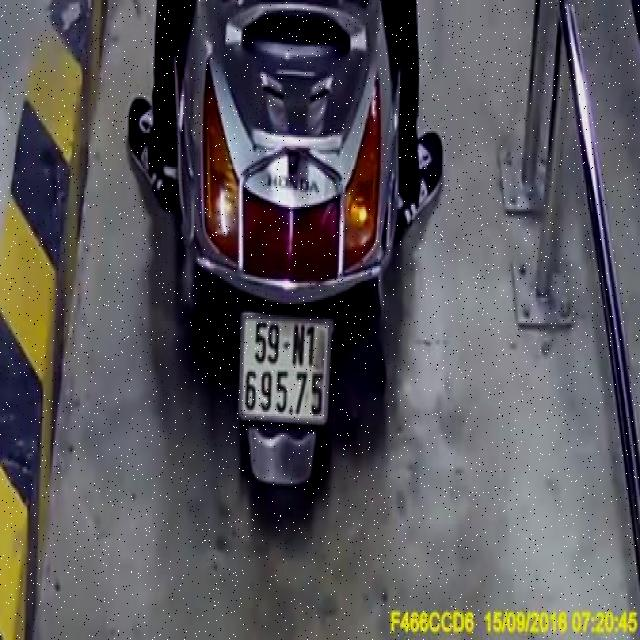1: (306, 320, 319, 370)
5: (273, 367, 290, 414), (252, 316, 267, 365), (310, 367, 324, 419)
6: (242, 367, 260, 415)
7: (293, 370, 308, 416)
9: (259, 367, 275, 414), (266, 318, 281, 366)
N: (290, 320, 308, 370)
